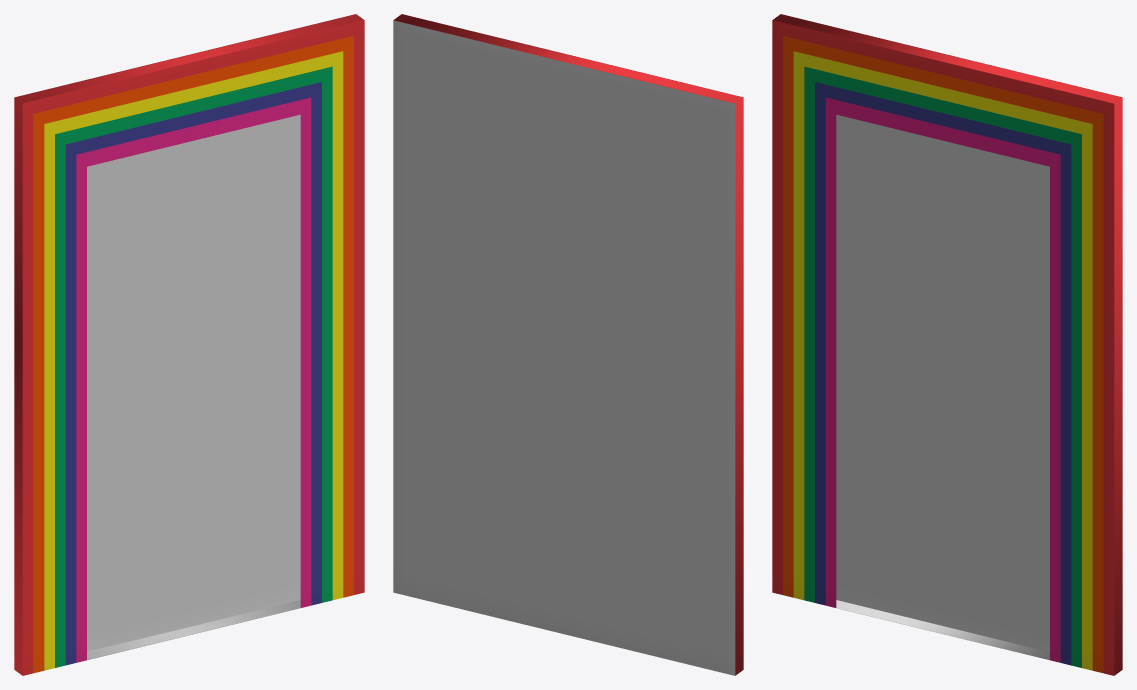
Rendered from espelho2.fbx.
The picture shows the model from 3 angles, left to right: view 1: azimuth 30°, elevation 25°; view 2: azimuth 150°, elevation 25°; view 3: azimuth 330°, elevation 25°; orthographic projection.
Visible parts, largest first — view 1: Cube_001; view 2: Cube_001; view 3: Cube_001.
Part boxes in pixels (left/top/right/bottom): Cube_001: left=14, top=14, right=364, bottom=675; Cube_001: left=393, top=14, right=743, bottom=675; Cube_001: left=772, top=14, right=1122, bottom=675.
Bounding box in the file's own units: 4.28 × 6.84 × 0.1857.
